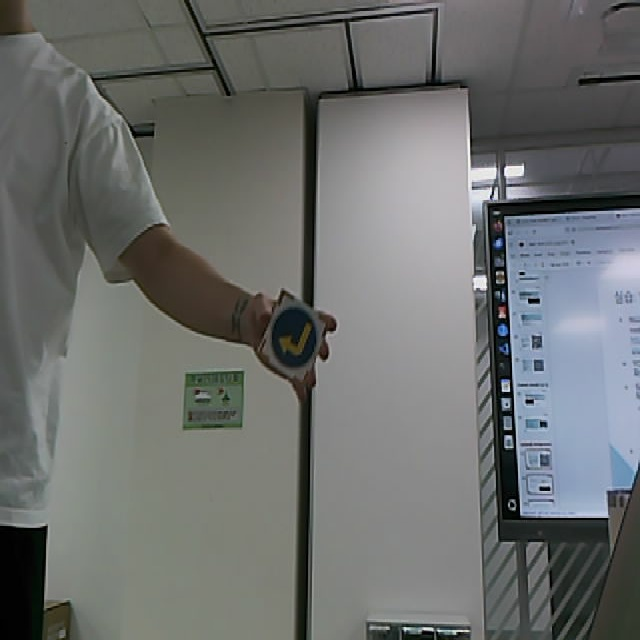right: (254, 287, 326, 383)
